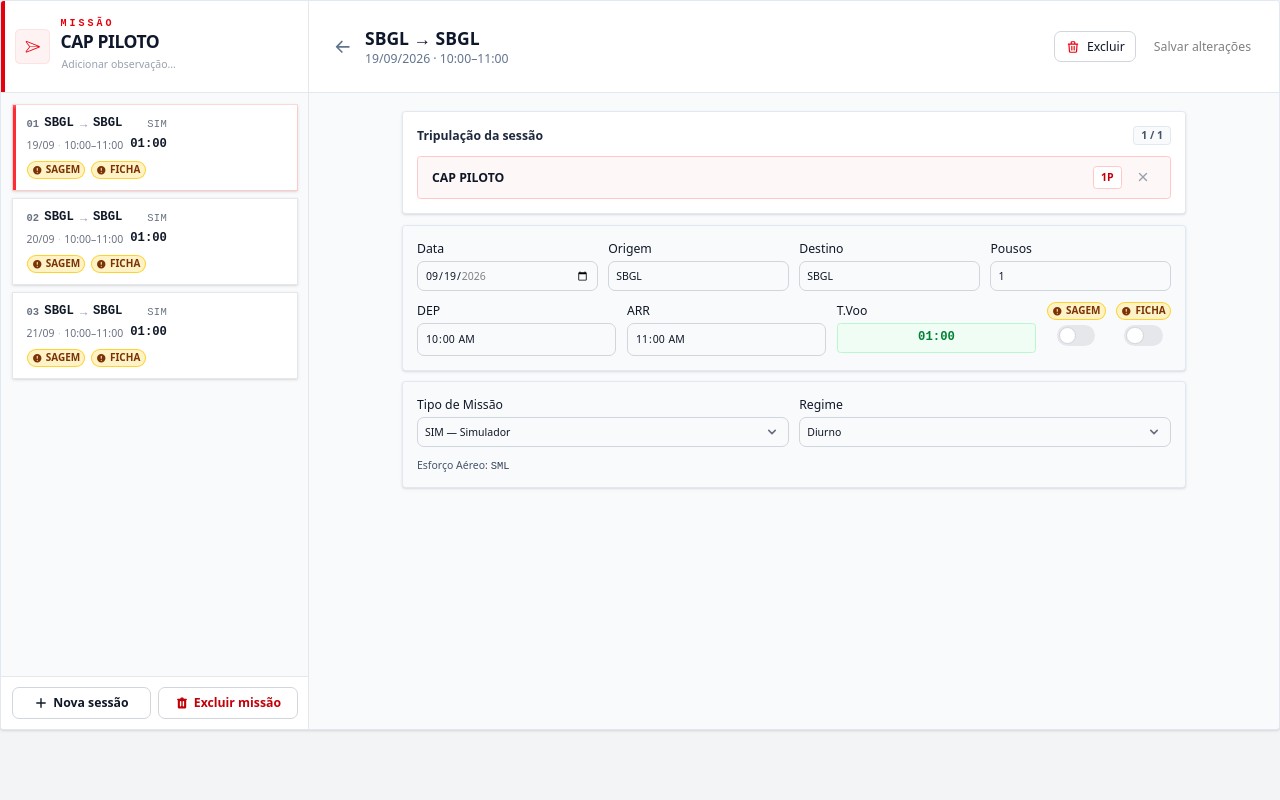
Test case: reconciliação do rascunho com o servidor › incorpora limpa a sessão criada por outra pessoa, na ordem cronológica
Check: the button "Salvar alterações" is disabled, box [1143, 31, 1262, 62]
Step 1. Click the button "02 SBGL → SBGL SIM 20/09·10:00–11:00 01:00 SAGEM FICHA" → (154, 241), box [12, 198, 298, 284]
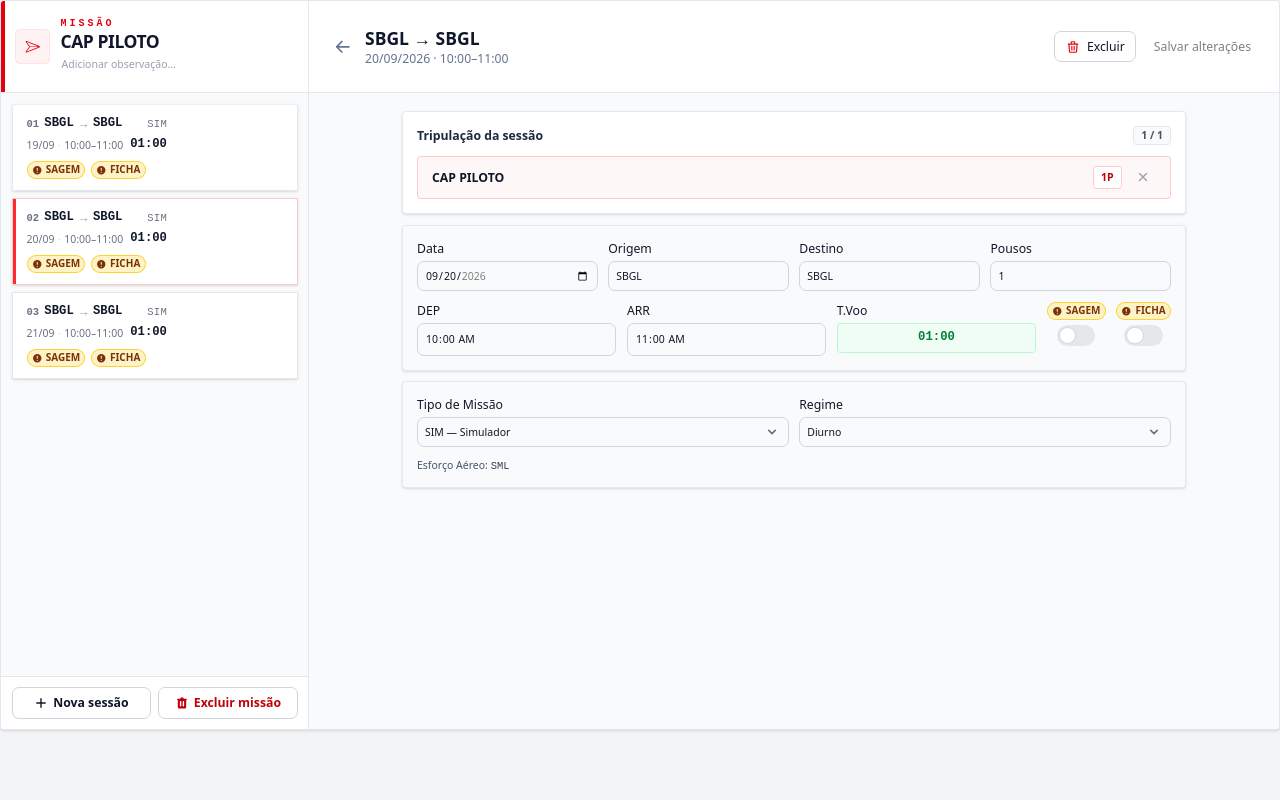
Check: the date field labelled "Data" holds "2026-09-20", box [417, 260, 598, 291]
